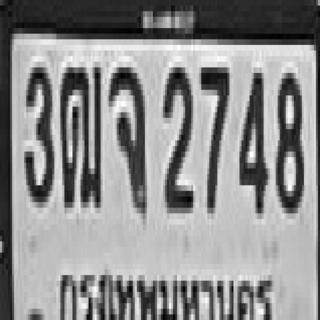A08: (107, 62, 145, 208)
A18: (58, 56, 99, 202)
N02: (161, 62, 191, 208)
N03: (22, 62, 52, 202)
N04: (237, 64, 266, 210)
N07: (199, 62, 227, 208)
N08: (274, 67, 302, 208)
P04: (58, 261, 278, 320)
